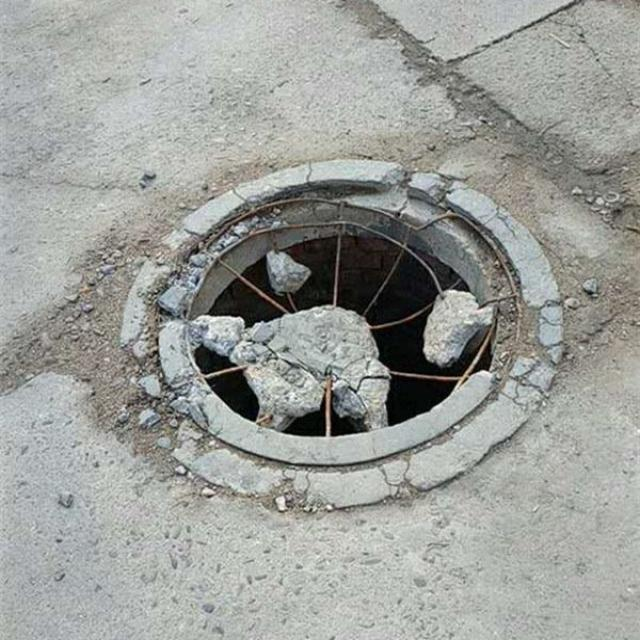Faulty: (128, 170, 563, 508)
